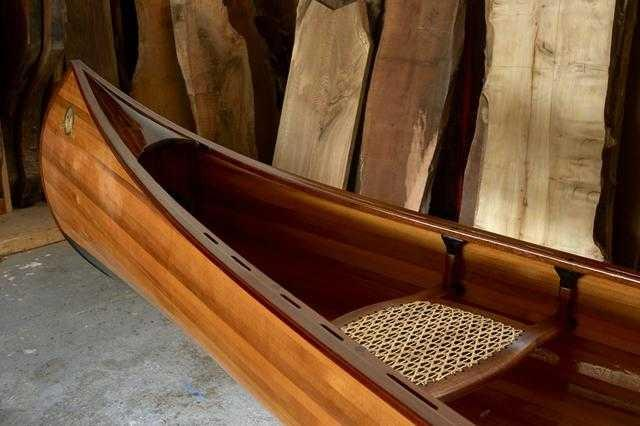kayak: (40, 41, 613, 422)
